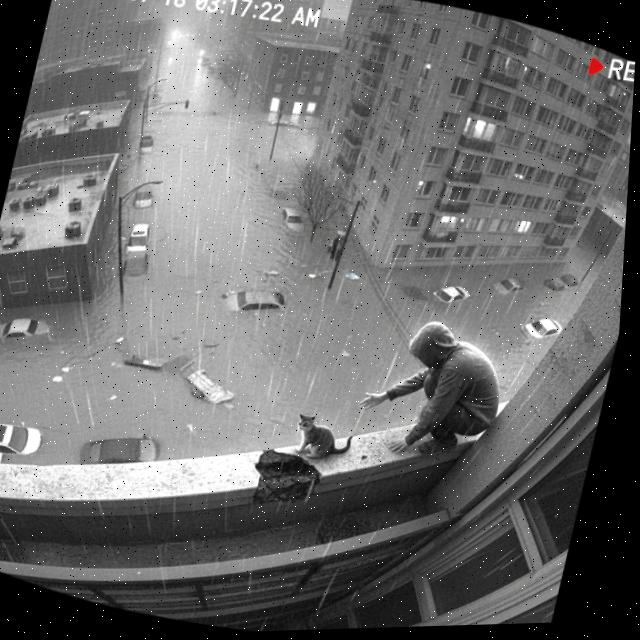cat: (281, 404, 366, 470)
civilian: (336, 303, 525, 481)
